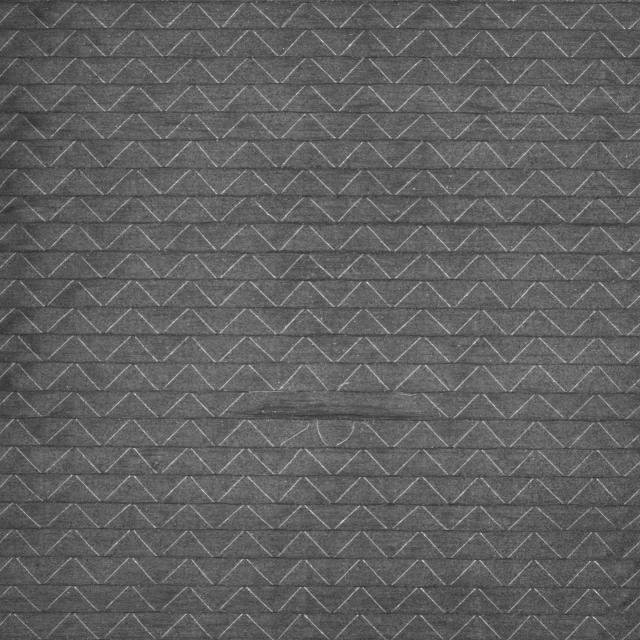carbon-fibre-defect: (235, 385, 445, 422), (271, 419, 440, 449)
